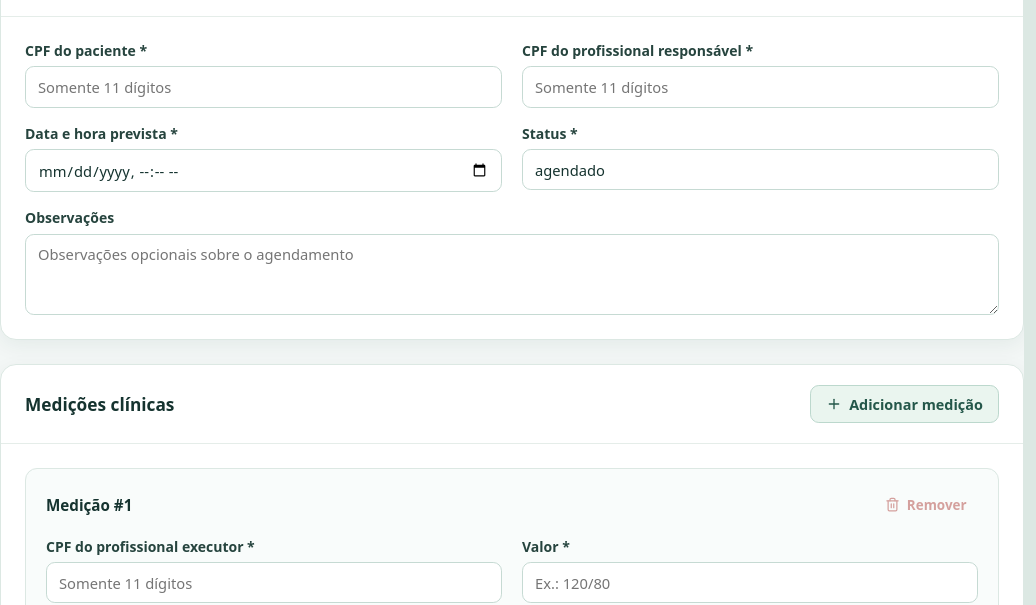
Test case: RealizarAgendamento › permite adicionar e remover medições mantendo no mínimo 1
Click the button "Adicionar medição" at x=904, y=404, box [810, 385, 999, 423]
(page scrolled)
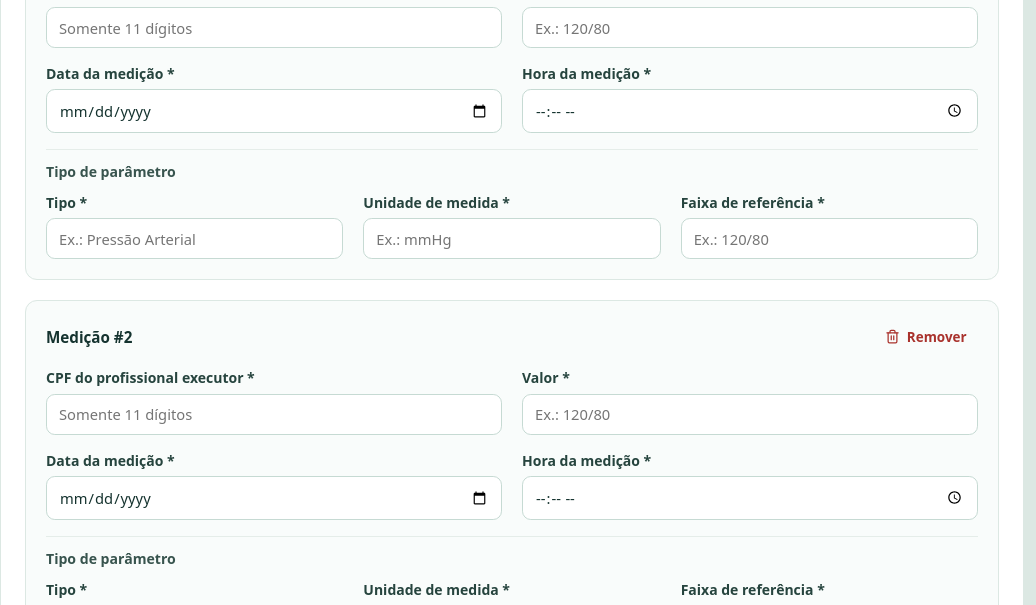
Result: the text "Medição #2" is shown at [46, 327, 132, 347]
Result: the 2nd button "Remover" is enabled
Click the 2nd button "Remover" at x=926, y=337, box [873, 321, 978, 352]
(page scrolled)
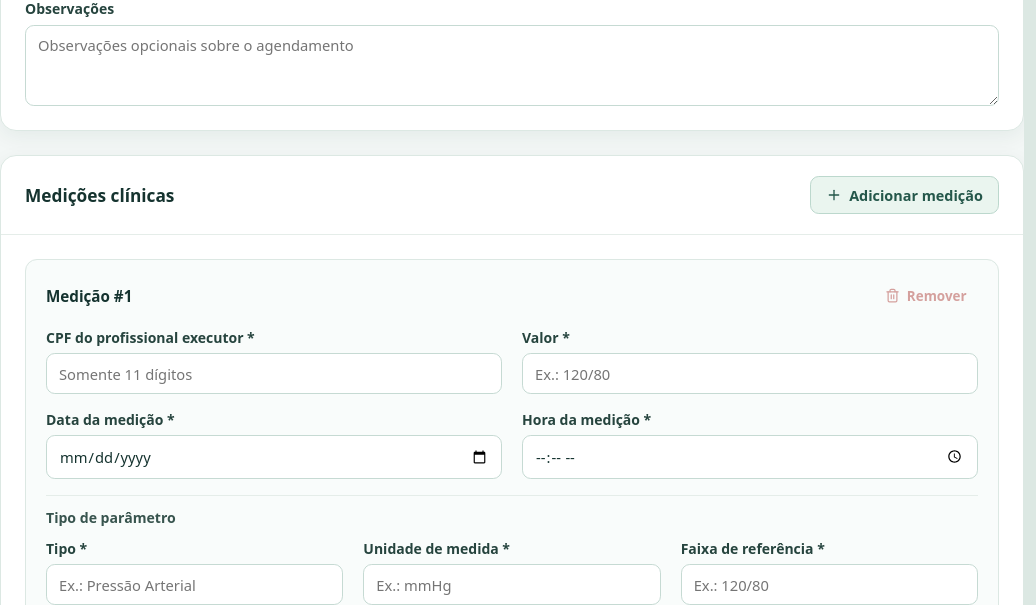
Result: the button "Remover" is disabled at [873, 280, 978, 312]
